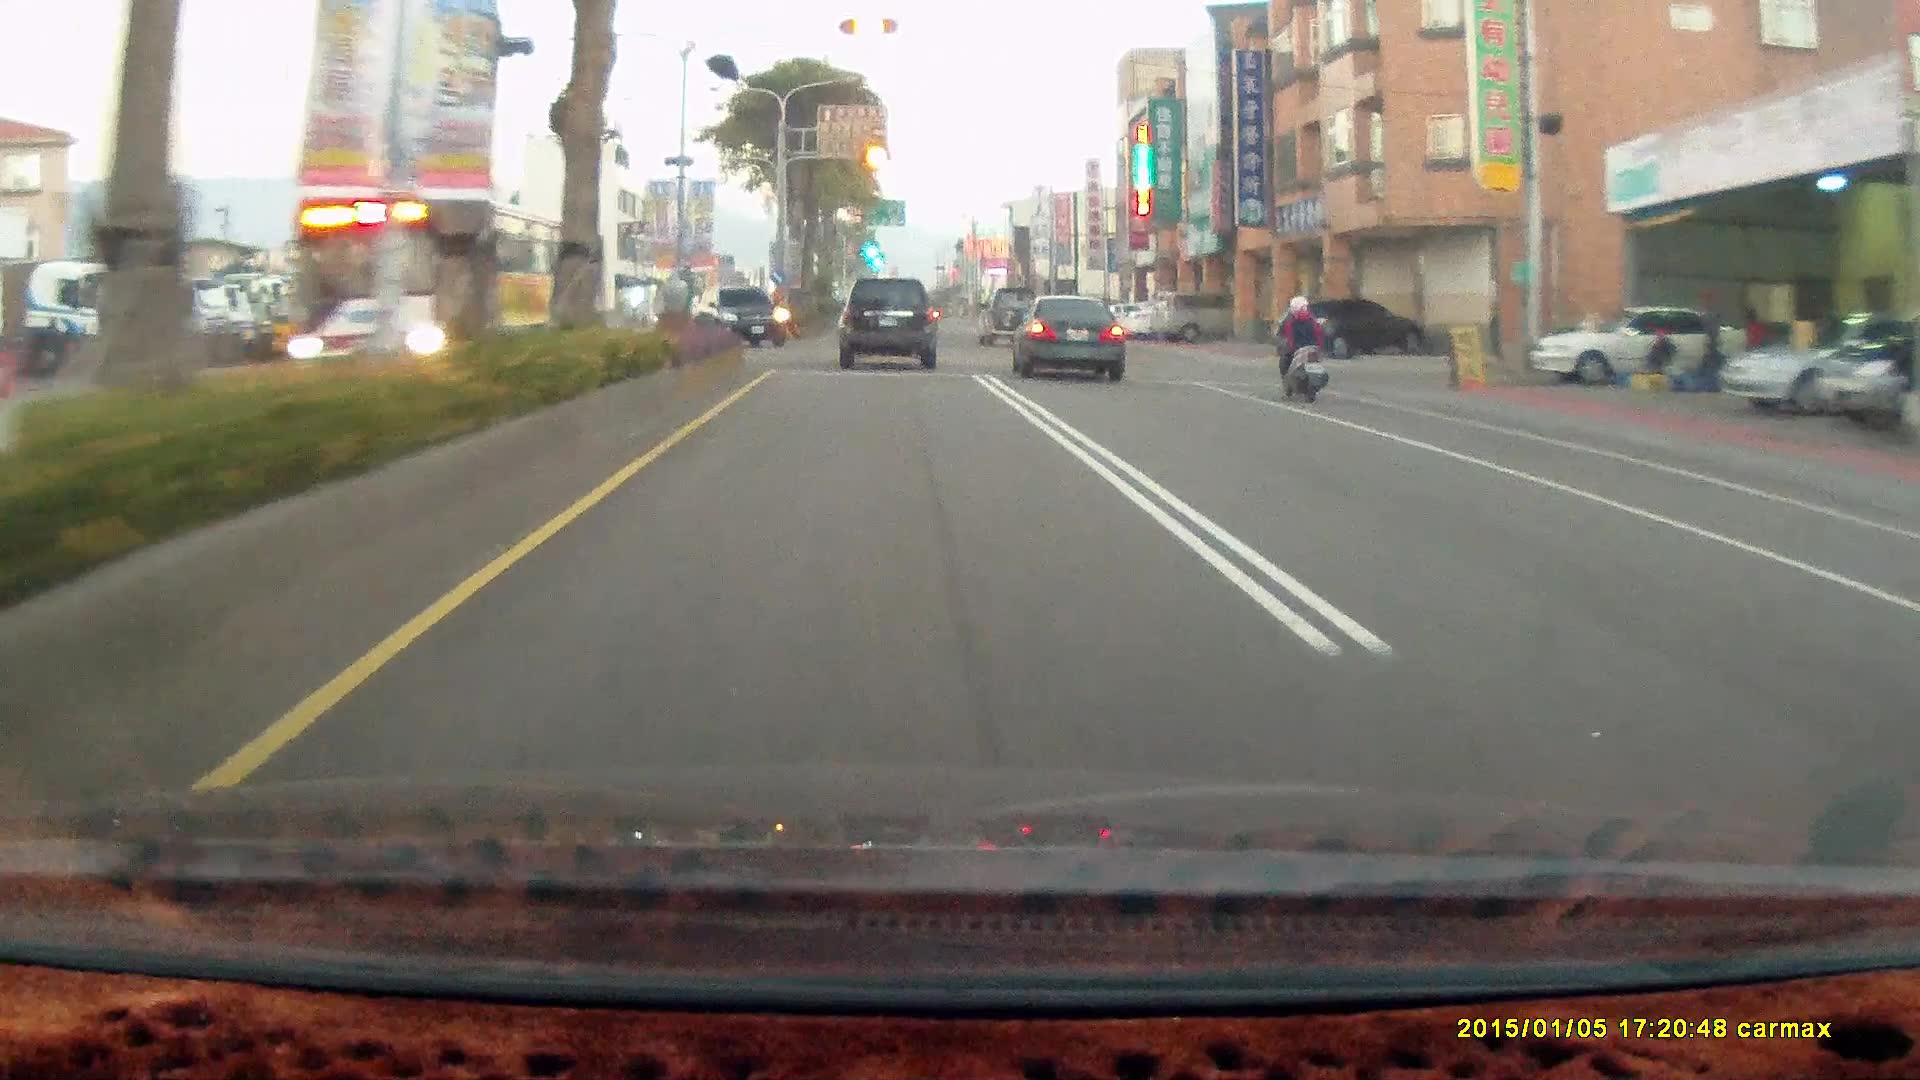pedestrian: (1699, 291, 1727, 393), (1742, 303, 1771, 388), (1648, 326, 1678, 391)
rider: (1262, 282, 1341, 413), (1270, 294, 1328, 402)
vehicle: (273, 189, 610, 380), (292, 196, 609, 387), (1718, 313, 1920, 415), (1525, 303, 1753, 384), (1726, 309, 1896, 411), (1568, 302, 1765, 379), (1811, 302, 1919, 429), (1812, 302, 1920, 429), (1012, 297, 1132, 391), (1003, 292, 1123, 380), (838, 281, 943, 374), (1274, 299, 1427, 363), (1274, 297, 1427, 359), (837, 277, 936, 370), (702, 284, 788, 350), (700, 284, 788, 346), (1150, 291, 1256, 341), (1154, 291, 1238, 345), (975, 286, 1041, 347)
